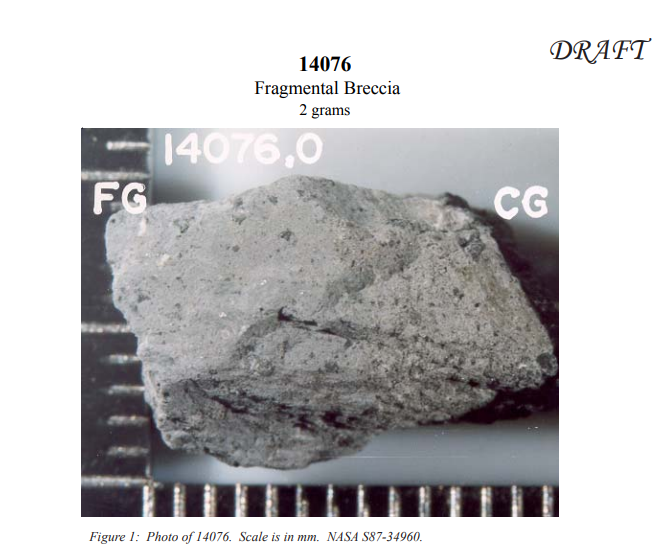Breccia: (98, 190, 545, 449)
